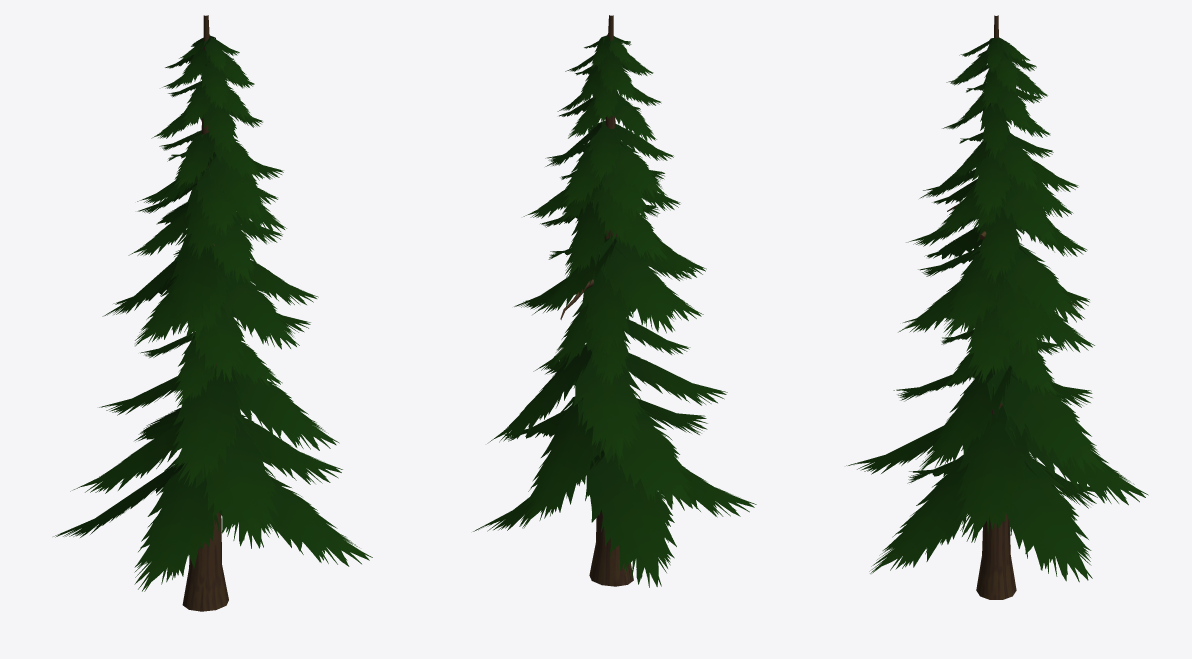
The model's file is SM_Pine_Tree_3.glb.
3 renders of one model, left to right at view 1: azimuth 30°, elevation 25°; view 2: azimuth 150°, elevation 25°; view 3: azimuth 270°, elevation 25°, orthographic. The views are drawn at different scales.
Visible parts, largest first — view 1: SM_Pine_Tree_3; view 2: SM_Pine_Tree_3; view 3: SM_Pine_Tree_3.
Part boxes in pixels (box(x1,y1,x2,y2)): SM_Pine_Tree_3: box(53, 15, 372, 611); SM_Pine_Tree_3: box(473, 15, 756, 587); SM_Pine_Tree_3: box(846, 15, 1148, 599).
Size of the model in its own units: 1.54 by 2.76 by 1.61.
Materials: 2 (2 with a texture image).
